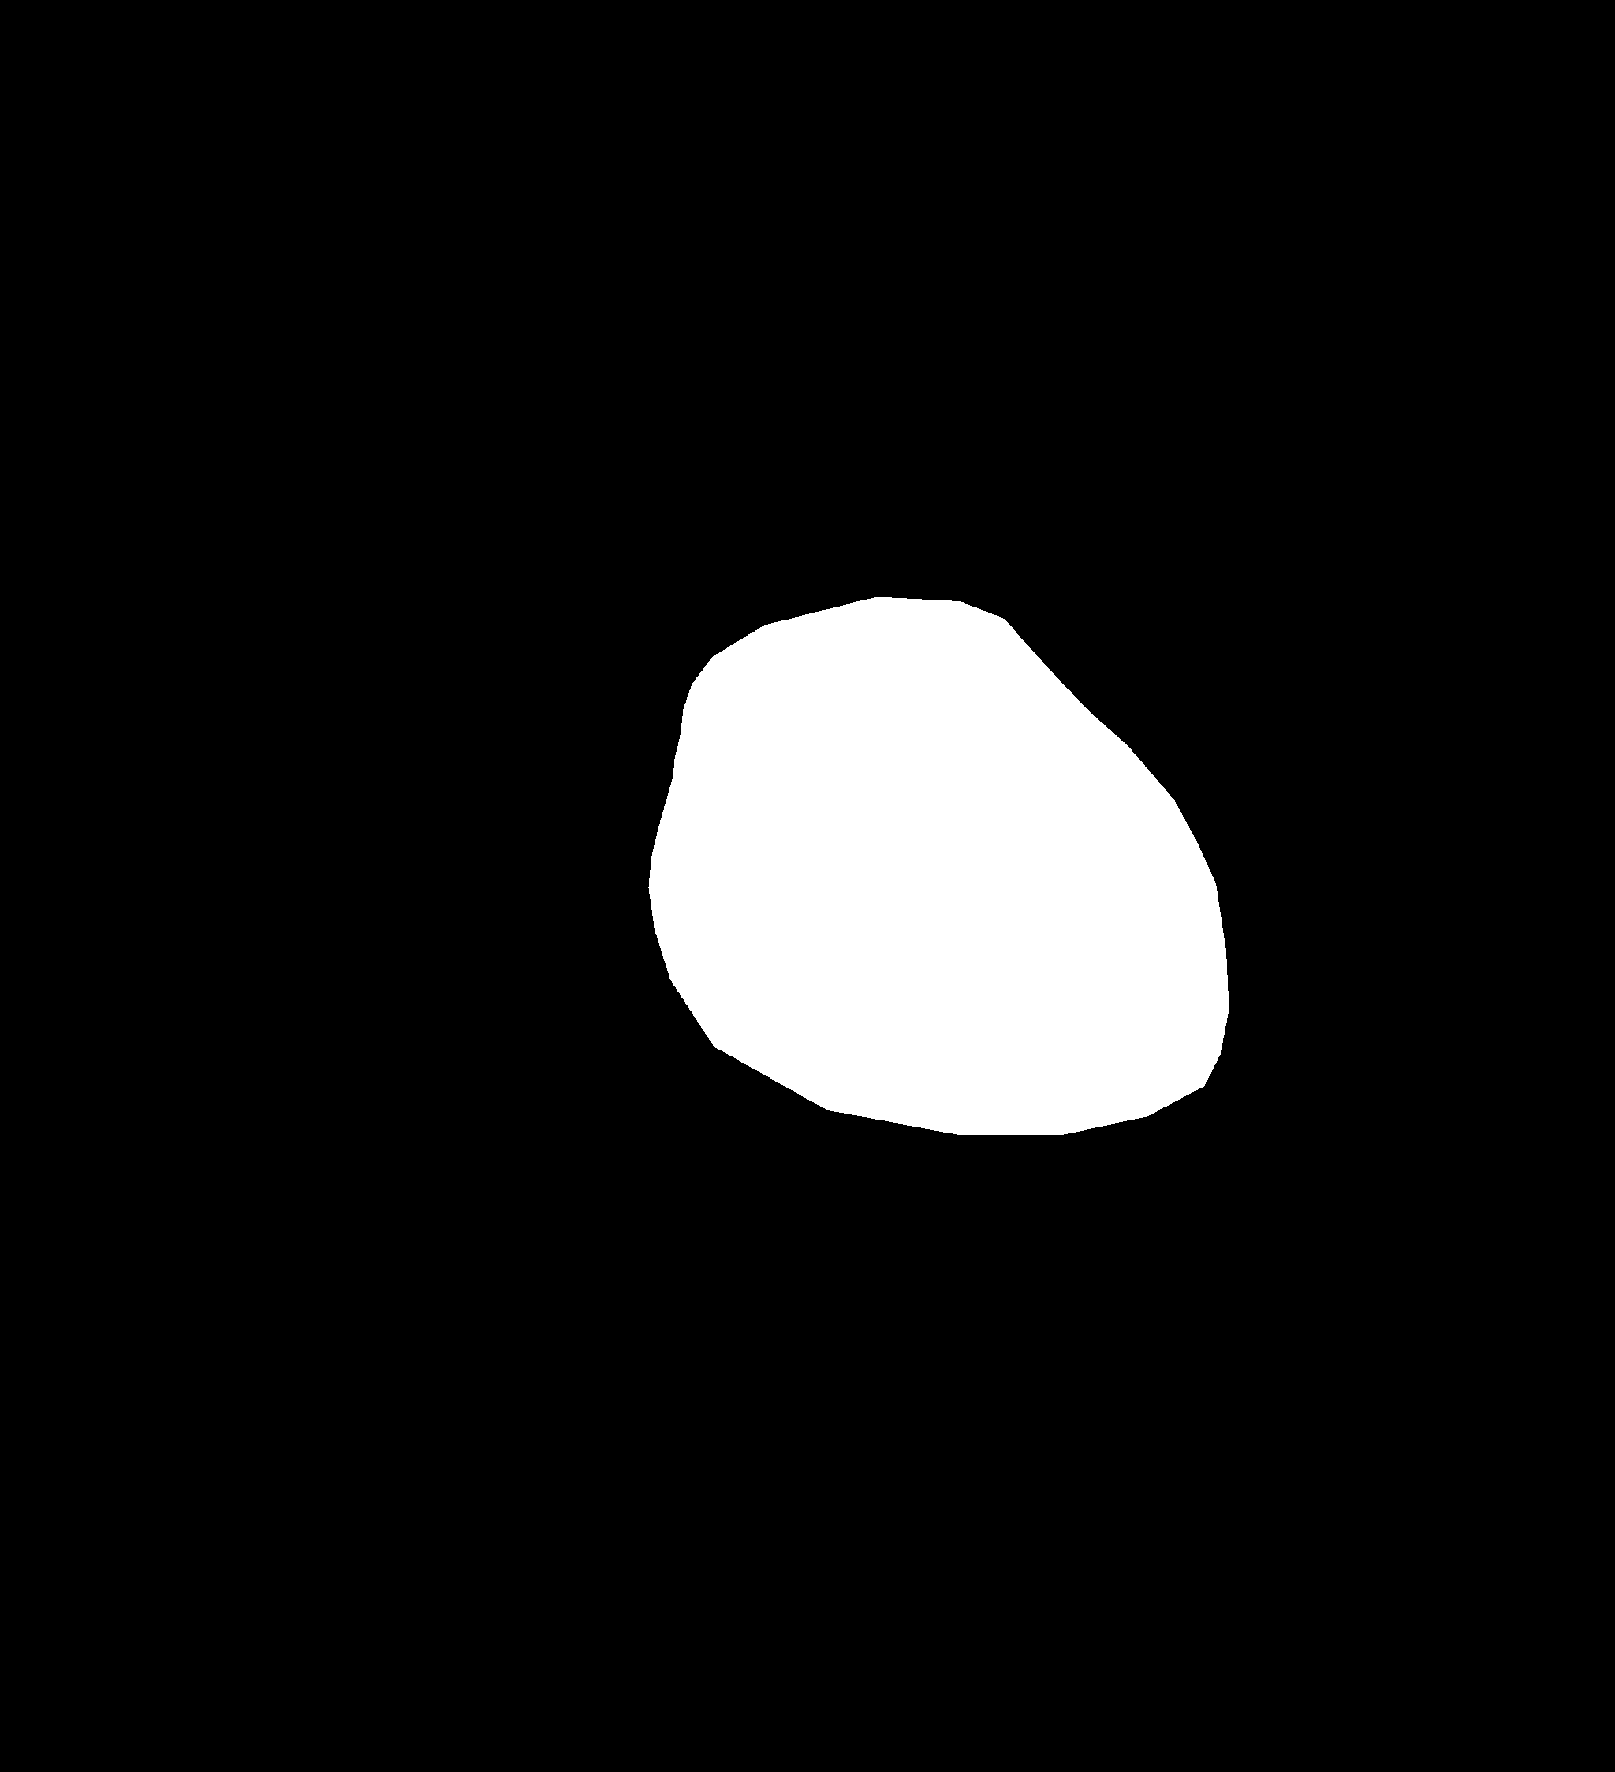heart: (645, 736, 1231, 1139)
left_lung: (191, 191, 684, 1206)
right_lung: (888, 130, 1431, 1164)
